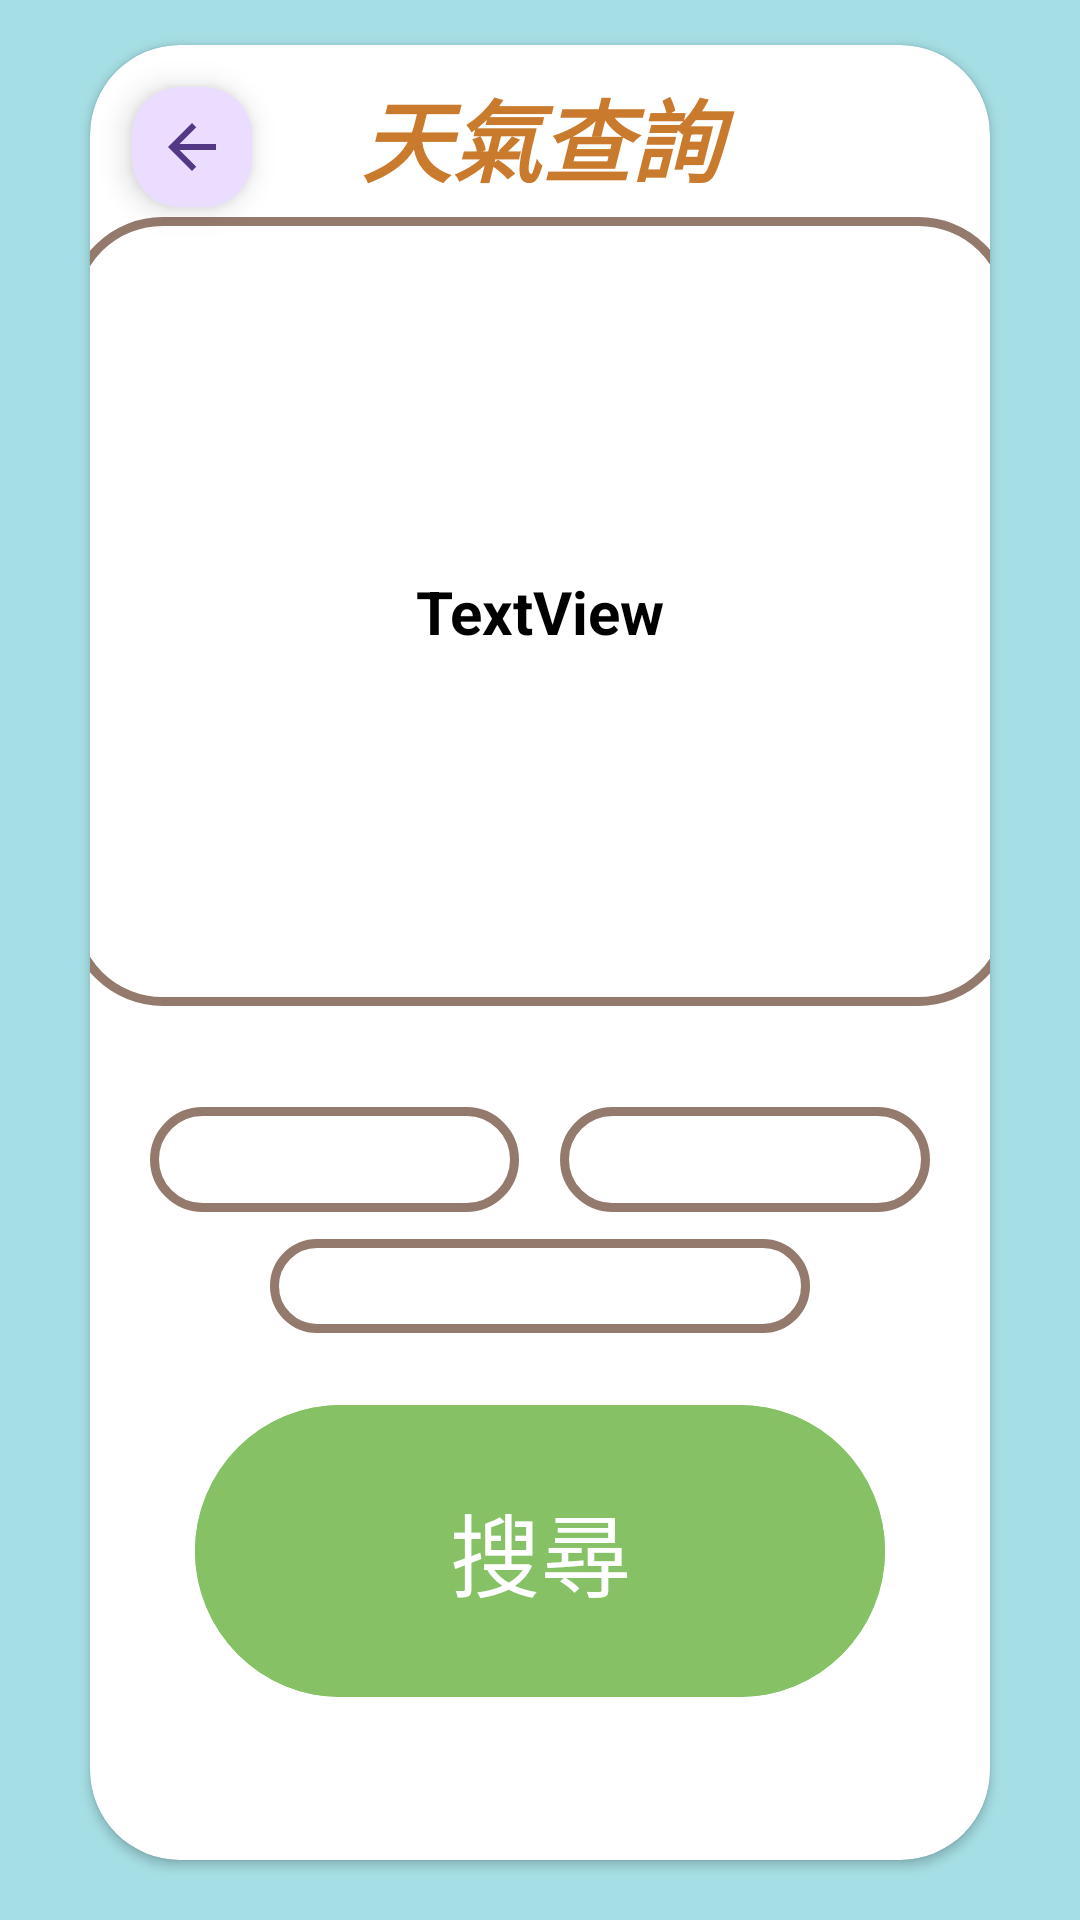

Locate icon controls on the screen. Image size 1080px x 1920px, boxes as region(x1, y1, x2, y2).
back: region(130, 87, 252, 208)
